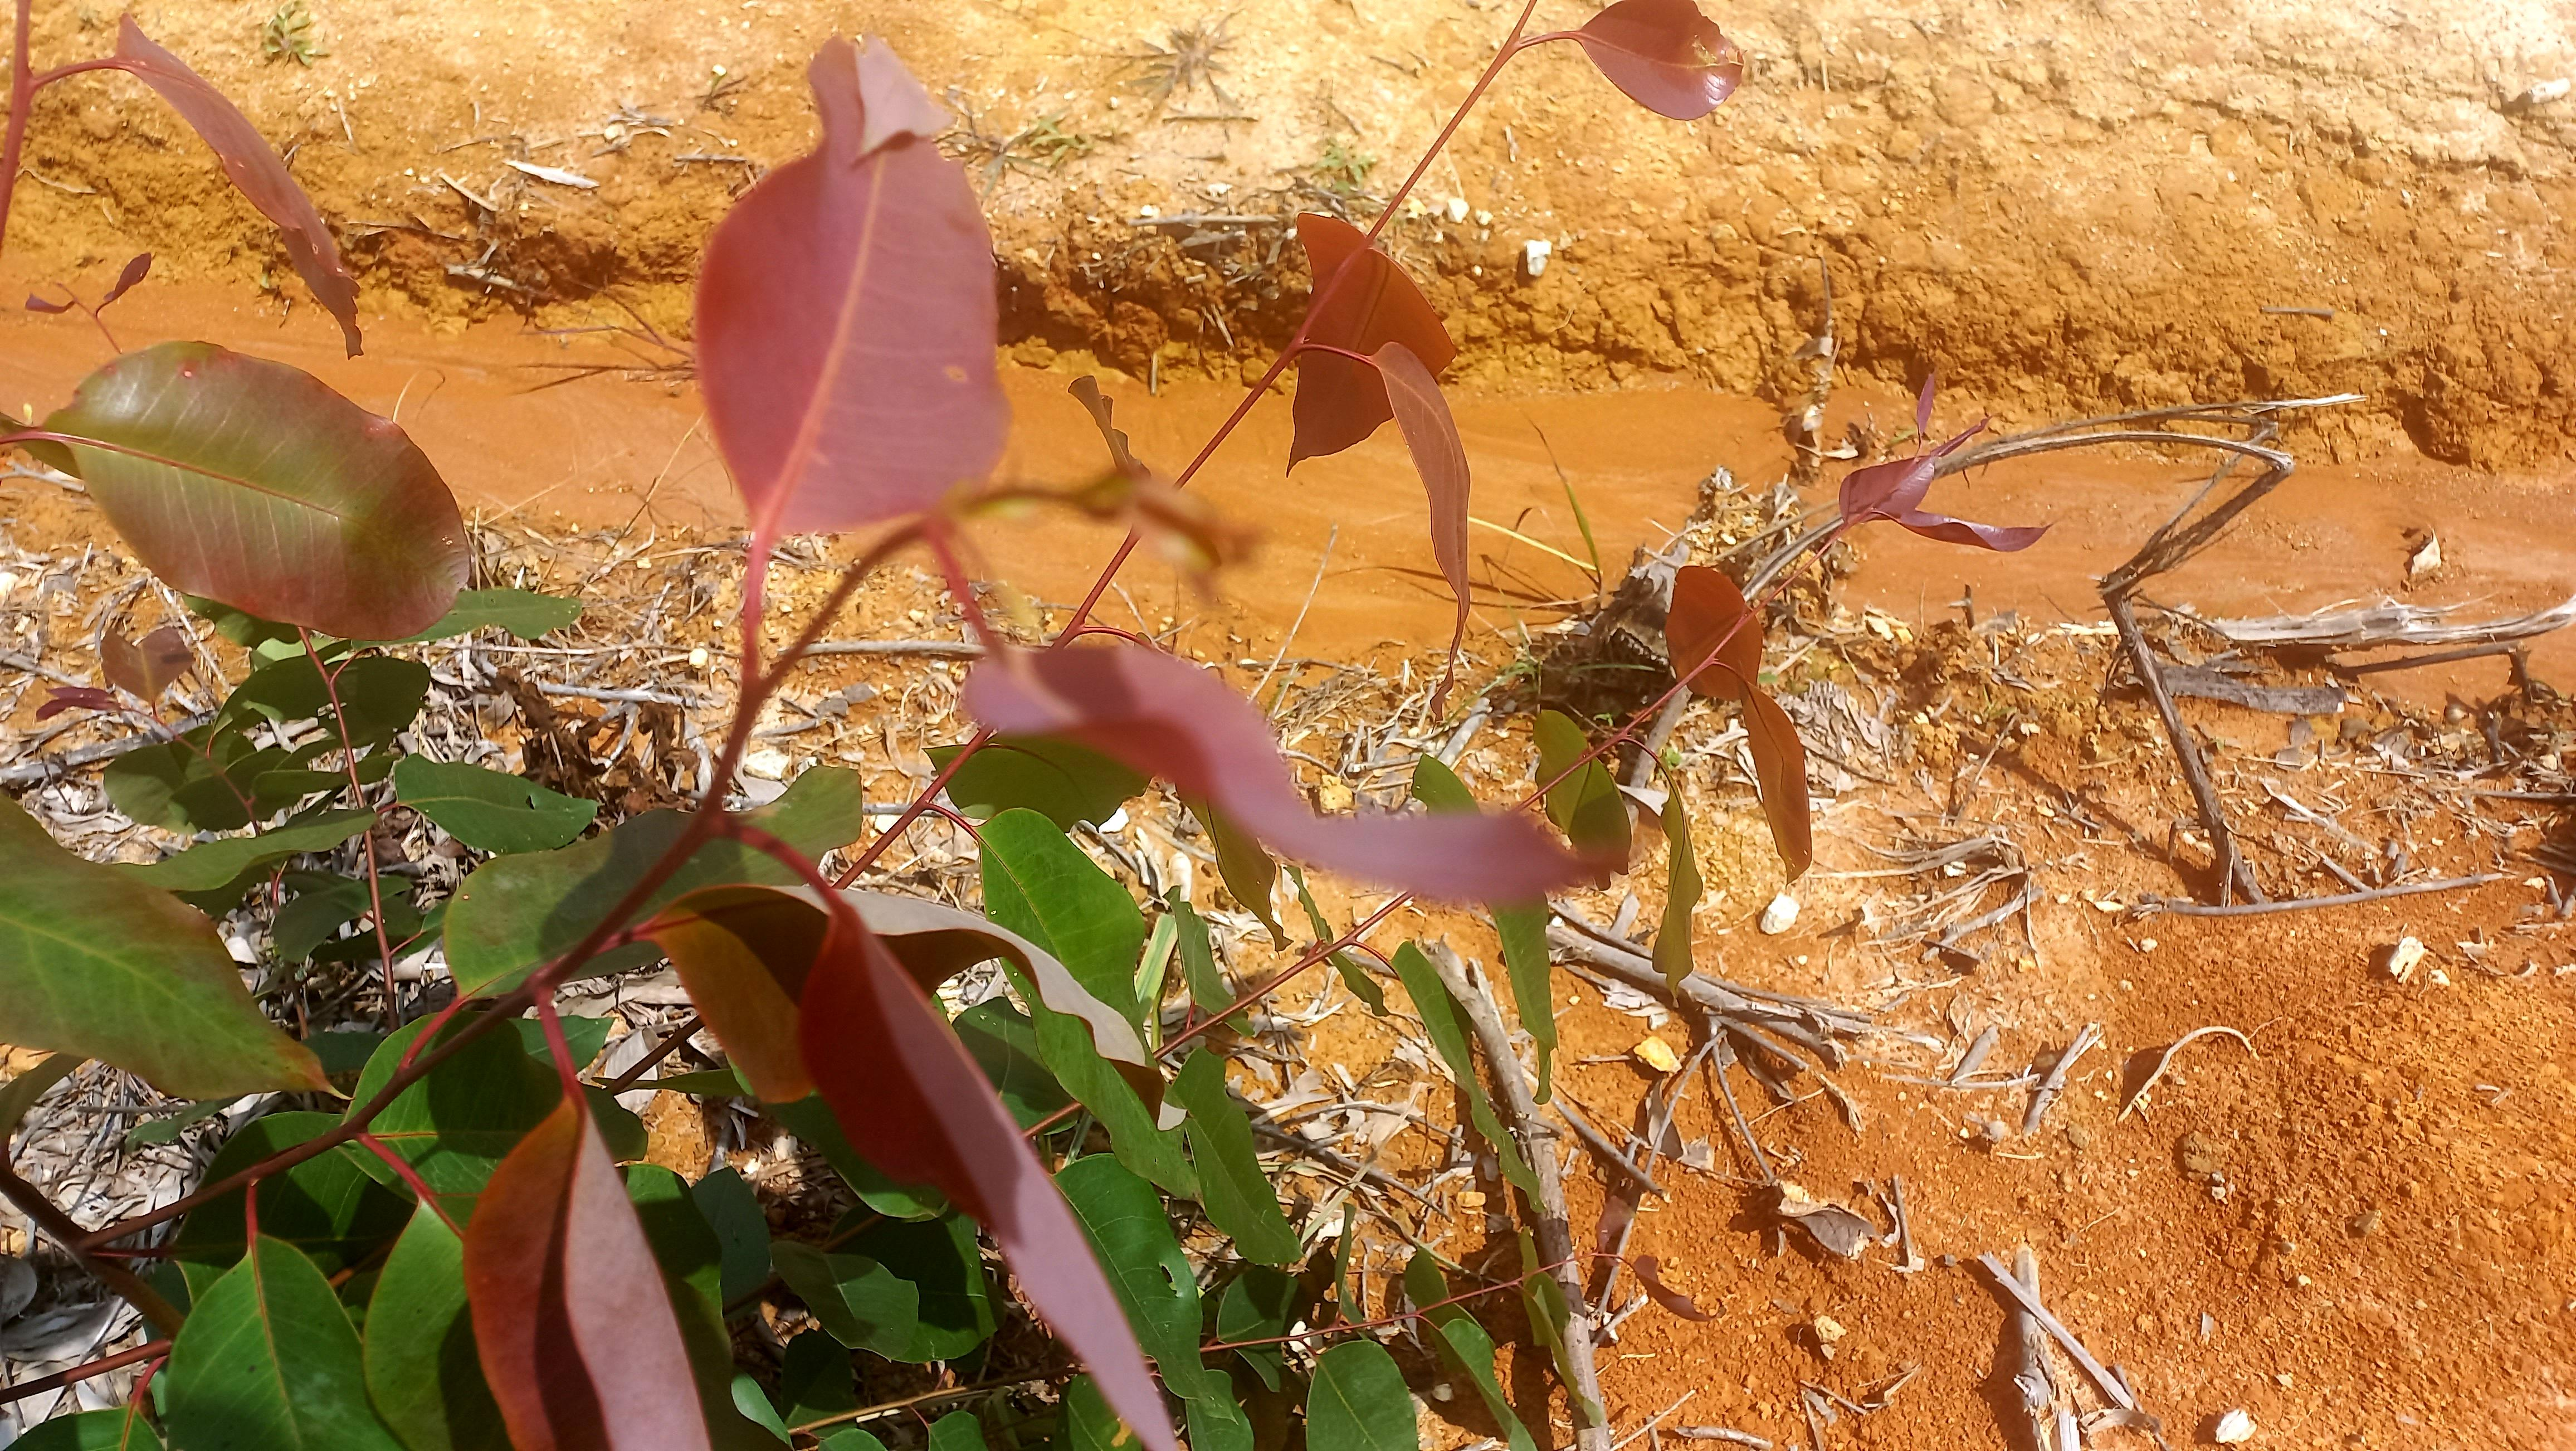Leaf Roller - Leaf: (1056, 471, 1261, 593), (1566, 0, 1746, 129), (1838, 416, 1989, 533), (1902, 513, 2061, 556)
